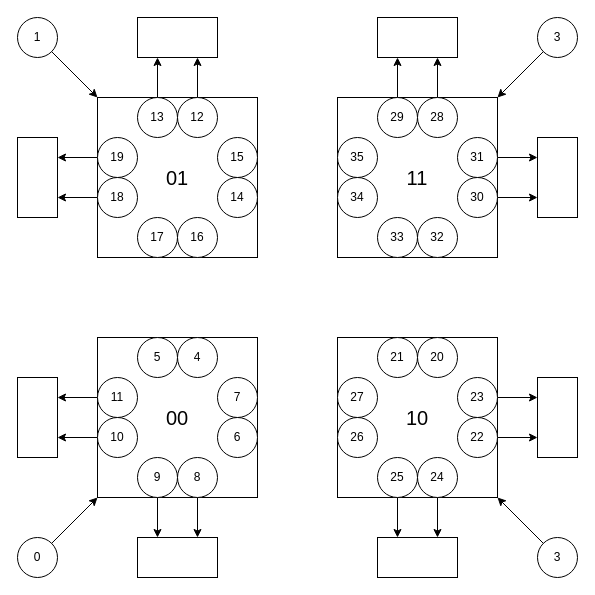
The diagram is 595 pixels wide and 595 high, and some of its shapes have lost their labels. The centre of each missing label's shape, as x and y in pixels:
"00s" belongs at pixel 177 557.
"00w" belongs at pixel 37 417.
"01n" belongs at pixel 177 37.
"01w" belongs at pixel 37 177.
"10e" belongs at pixel 557 417.
"10s" belongs at pixel 417 557.
"11e" belongs at pixel 557 177.
"11n" belongs at pixel 417 37.
